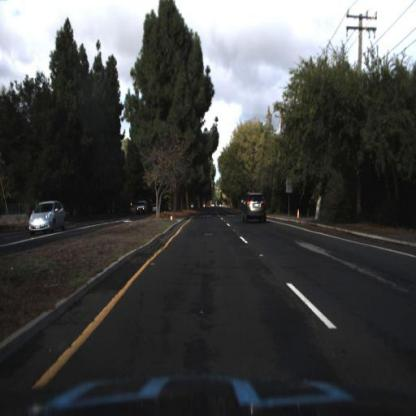car: (30, 201, 70, 237), (242, 192, 268, 228), (136, 198, 148, 219), (137, 199, 149, 217)
